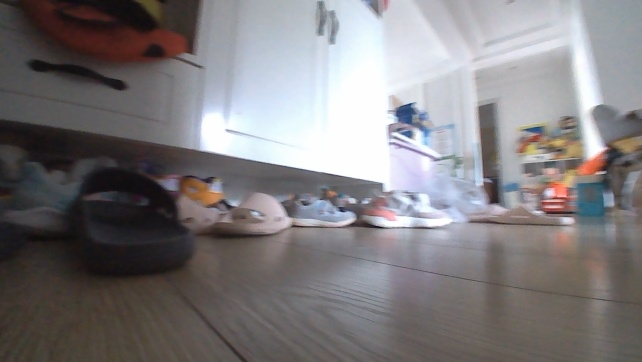shoe: (356, 188, 452, 234), (296, 198, 358, 229)
slipper: (71, 162, 201, 280), (204, 188, 297, 243), (483, 204, 578, 230)
